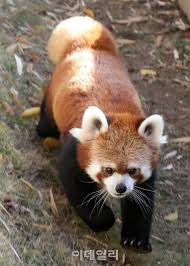redPanda: (42, 13, 172, 250)
